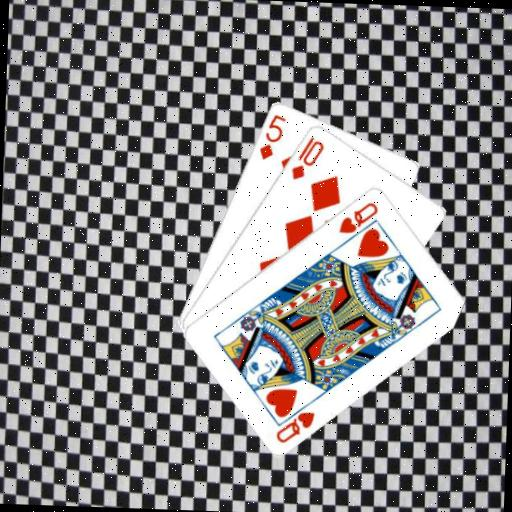10D: (287, 132, 326, 182)
5D: (255, 110, 287, 162)
QH: (272, 395, 317, 445), (335, 197, 380, 235)
